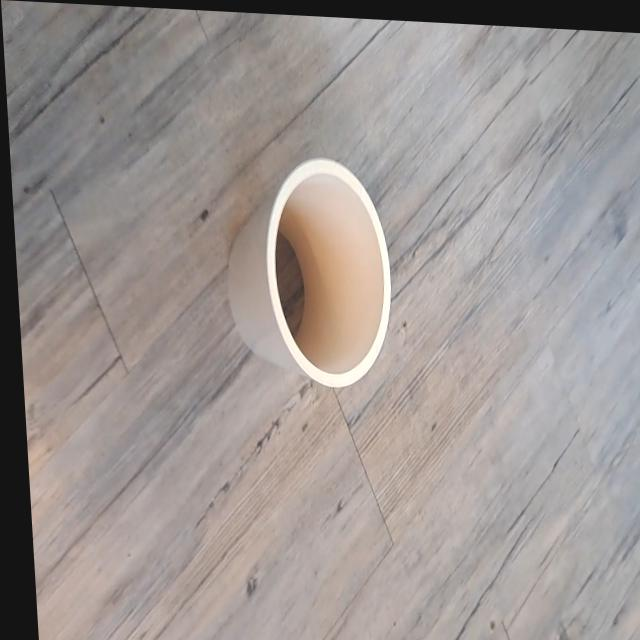CORAL: (200, 138, 411, 415)
